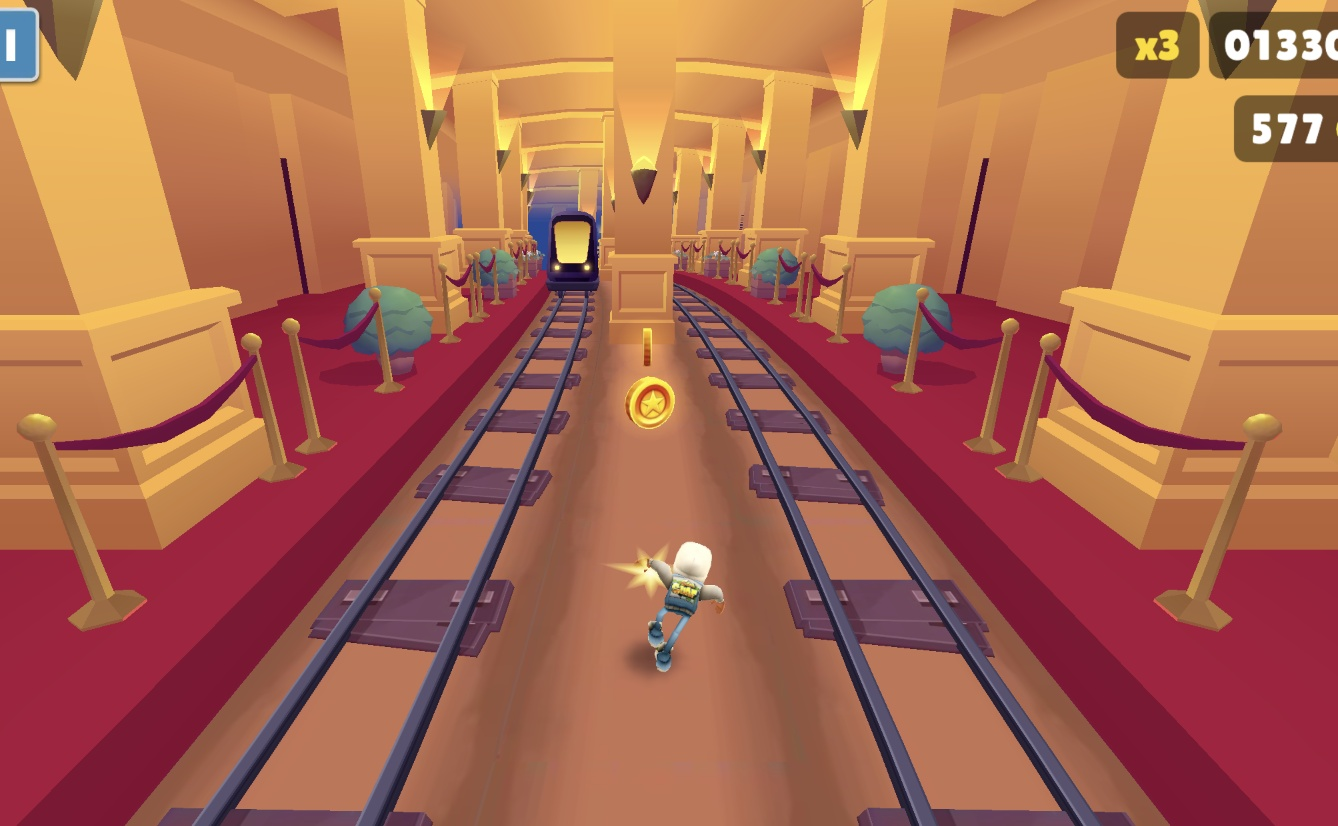pillar: (594, 0, 674, 359)
train: (537, 205, 599, 297)
